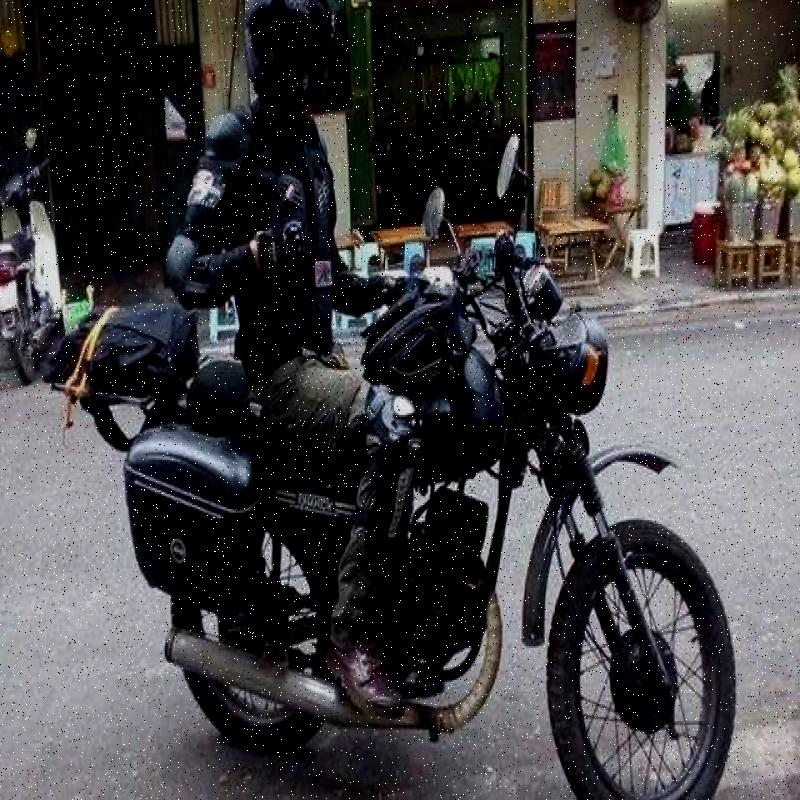bike: (94, 136, 738, 800)
